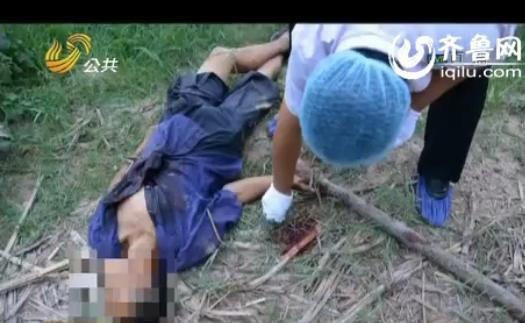Fall-Detected: (63, 24, 292, 323)
